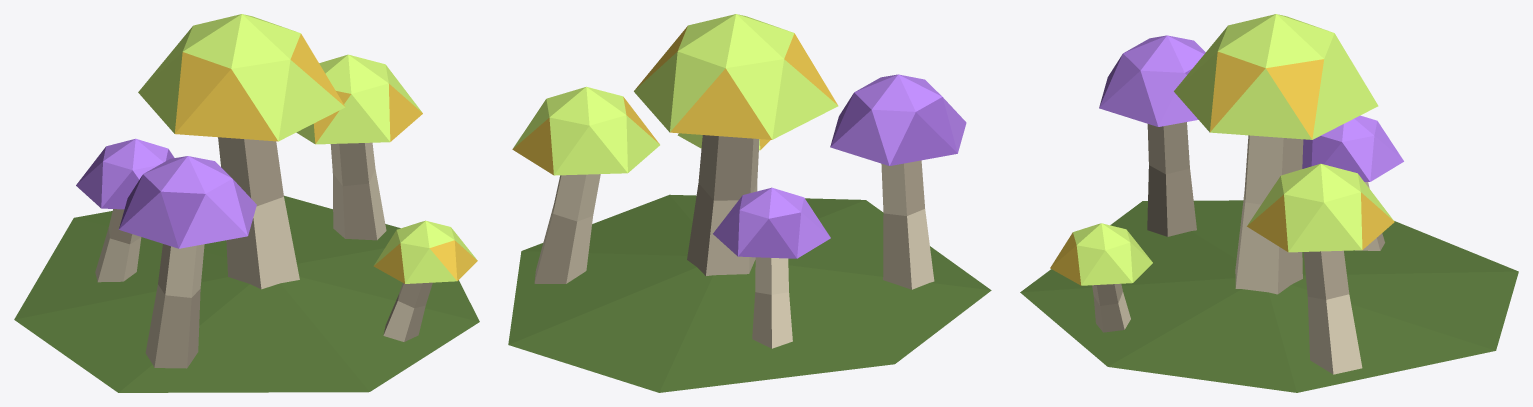
The model's file is mushroom_cluster.fbx.
The picture shows the model from 3 angles, left to right: view 1: azimuth 30°, elevation 25°; view 2: azimuth 150°, elevation 25°; view 3: azimuth 270°, elevation 25°; orthographic projection.
Visible parts, largest first — view 1: mushroom_cluster; view 2: mushroom_cluster; view 3: mushroom_cluster.
Part boxes in pixels (x1,y1,x2,y2): mushroom_cluster: (14, 14, 479, 392); mushroom_cluster: (508, 14, 991, 392); mushroom_cluster: (1020, 14, 1518, 392).
Size of the model in its own units: 0.6162 by 0.4328 by 0.6719.
